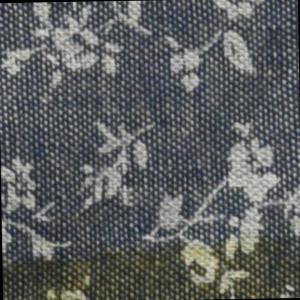Stain: (2, 231, 300, 300)
